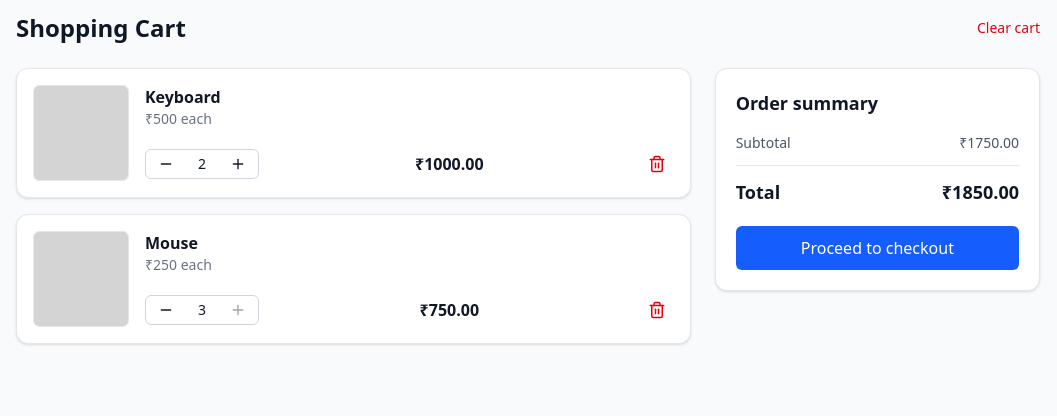
Test: CartPage › errors › shows a generic message when the error has no server response
Step 1. Click the button named "Remove item" next to "1000.00" → (657, 164), box [640,147,674,181]
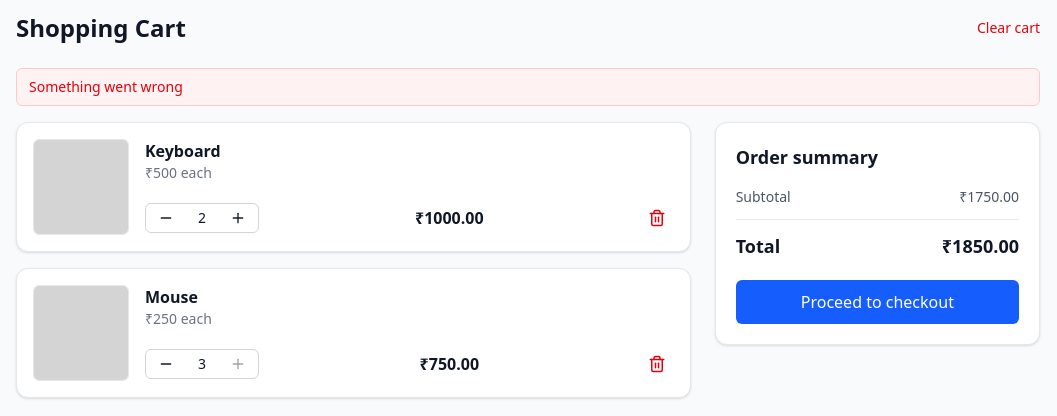
Now the text "Something went wrong" is shown, box [16,68,1040,106]
